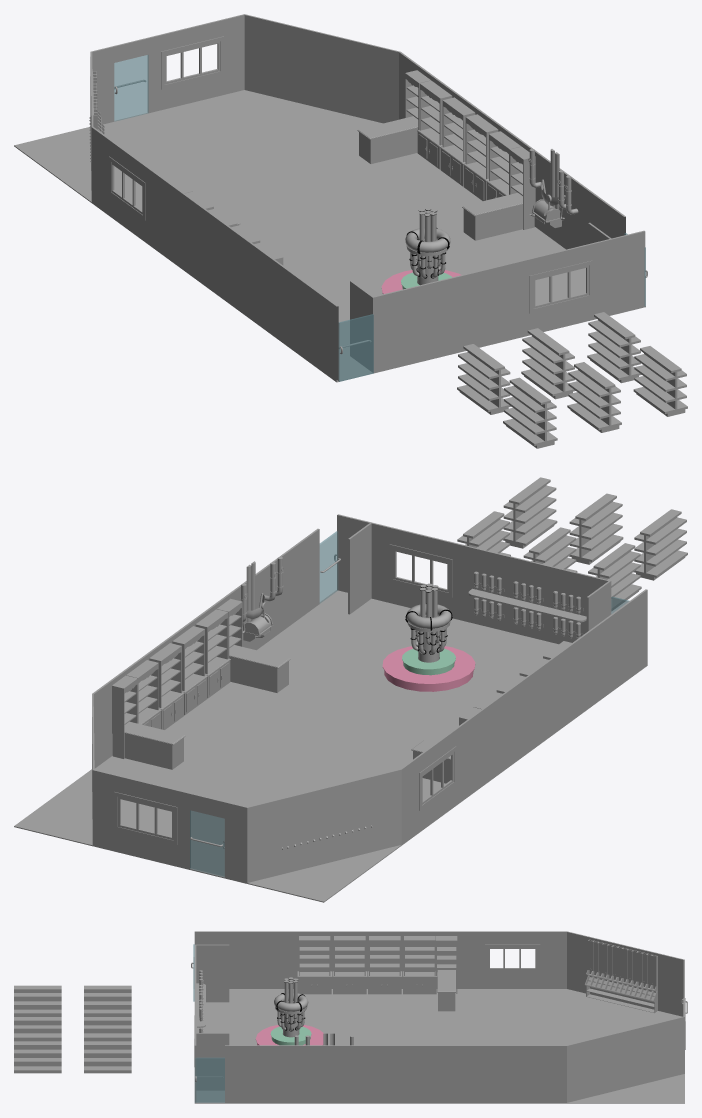
File: Candy_Shop.fbx
3 renders of one model, top to bottom at view 1: azimuth 30°, elevation 25°; view 2: azimuth 150°, elevation 25°; view 3: azimuth 270°, elevation 25°, orthographic. The views are drawn at different scales.
Visible parts, largest first — view 1: pCube3, pPipe1, pCube6, Door_Glass (×2), _Cabinet (×2), pCube4, _Bottom (×2), Candy_shop_Updated2:pasted__pipemain, _RightSide; view 2: pCube3, pPipe1, pCube6, Door_Glass (×2), _Cabinet (×2), Candy_shop_Updated2:pasted__pPipe2, pCube5, _Bottom (×2), pCylinder1, Candy_shop_Updated2:pasted__pPipe1, pCube4, _RightSide (+1 smaller); view 3: pPipe1, pCube3, Shelving_Center (×6), _BackSide (×4), pCube4, Shelving_SecondRack (×6), Shelving_TopRack (×6), pCube5, _Cabinet (×5), Door_Glass, Shelving_FirstRack (×4), Shelving_BottomRack (×2) (+8 smaller).
Part boxes in pixels (<box>): pCube3: <box>14,90,645,382</box>; pPipe1: <box>90,14,625,381</box>; pCube6: <box>372,230,645,372</box>; Door_Glass (×2): <box>114,55,373,381</box>; _Cabinet (×2): <box>359,128,522,240</box>; pCube4: <box>350,281,374,372</box>; _Bottom (×2): <box>357,116,522,216</box>; Candy_shop_Updated2:pasted__pipemain: <box>405,228,450,253</box>; _RightSide: <box>523,160,534,229</box>; pCube3: <box>14,590,647,902</box>; pPipe1: <box>92,528,647,882</box>; pCube6: <box>337,514,611,644</box>; Door_Glass (×2): <box>190,531,337,876</box>; _Cabinet (×2): <box>124,656,288,769</box>; Candy_shop_Updated2:pasted__pPipe2: <box>382,646,475,691</box>; pCube5: <box>348,522,371,614</box>; _Bottom (×2): <box>124,645,290,745</box>; pCylinder1: <box>468,588,586,622</box>; Candy_shop_Updated2:pasted__pPipe1: <box>402,648,455,675</box>; pCube4: <box>586,580,611,631</box>; _RightSide: <box>112,687,124,758</box>; pPipe1: <box>194,931,684,1102</box>; pCube3: <box>194,989,684,1103</box>; Shelving_Center (×6): <box>14,991,131,1066</box>; _BackSide (×4): <box>299,944,434,971</box>; pCube4: <box>195,944,229,1002</box>; Shelving_SecondRack (×6): <box>14,1001,131,1054</box>; Shelving_TopRack (×6): <box>14,985,131,1039</box>; pCube5: <box>194,1033,229,1090</box>; _Cabinet (×5): <box>297,977,455,1011</box>; Door_Glass: <box>195,1057,224,1102</box>; Shelving_FirstRack (×4): <box>14,993,131,1046</box>; Shelving_BottomRack (×2): <box>14,1066,131,1071</box>.
Bounding box in the file's own units: 87.15 × 24.33 × 214.
